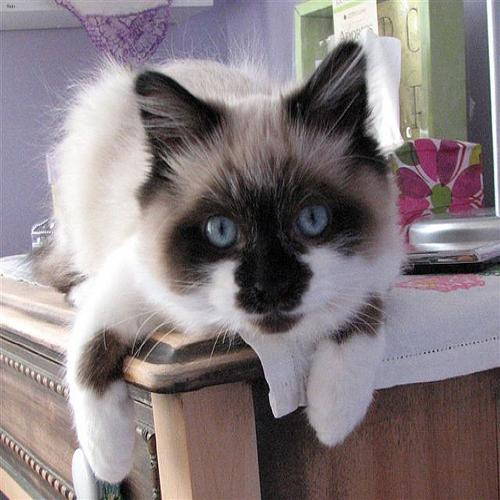ragdoll: (129, 31, 396, 350)
